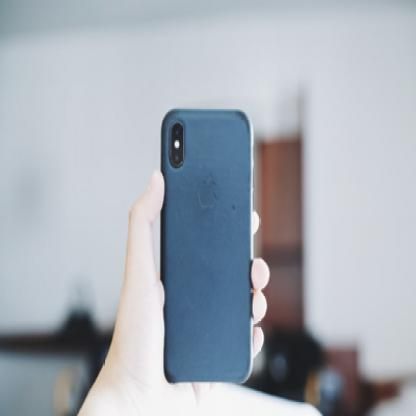cell-phone: (158, 90, 260, 376)
